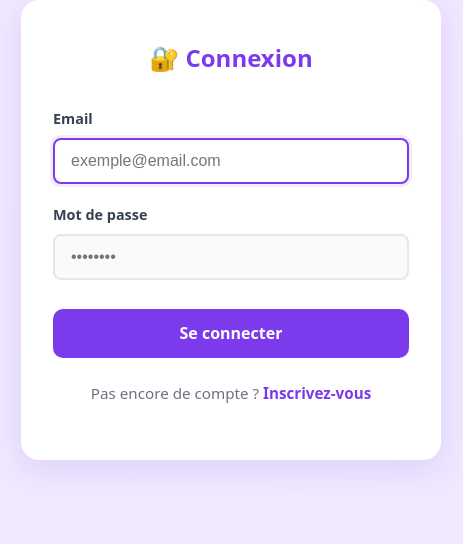
Test: Connexion — Validation des champs › doit afficher une erreur si l'email est vide à la soumission
The width and height of the screenshot is (463, 544).
Click the button "Se connecter": [231, 333] box [53,309,409,358]
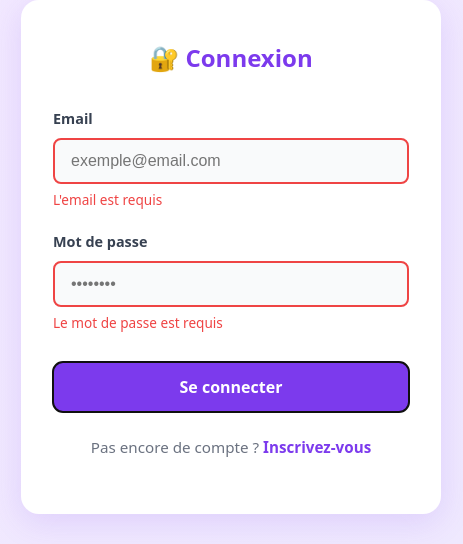
Check: the text "L'email est requis" is shown, box [53,190,162,209]
